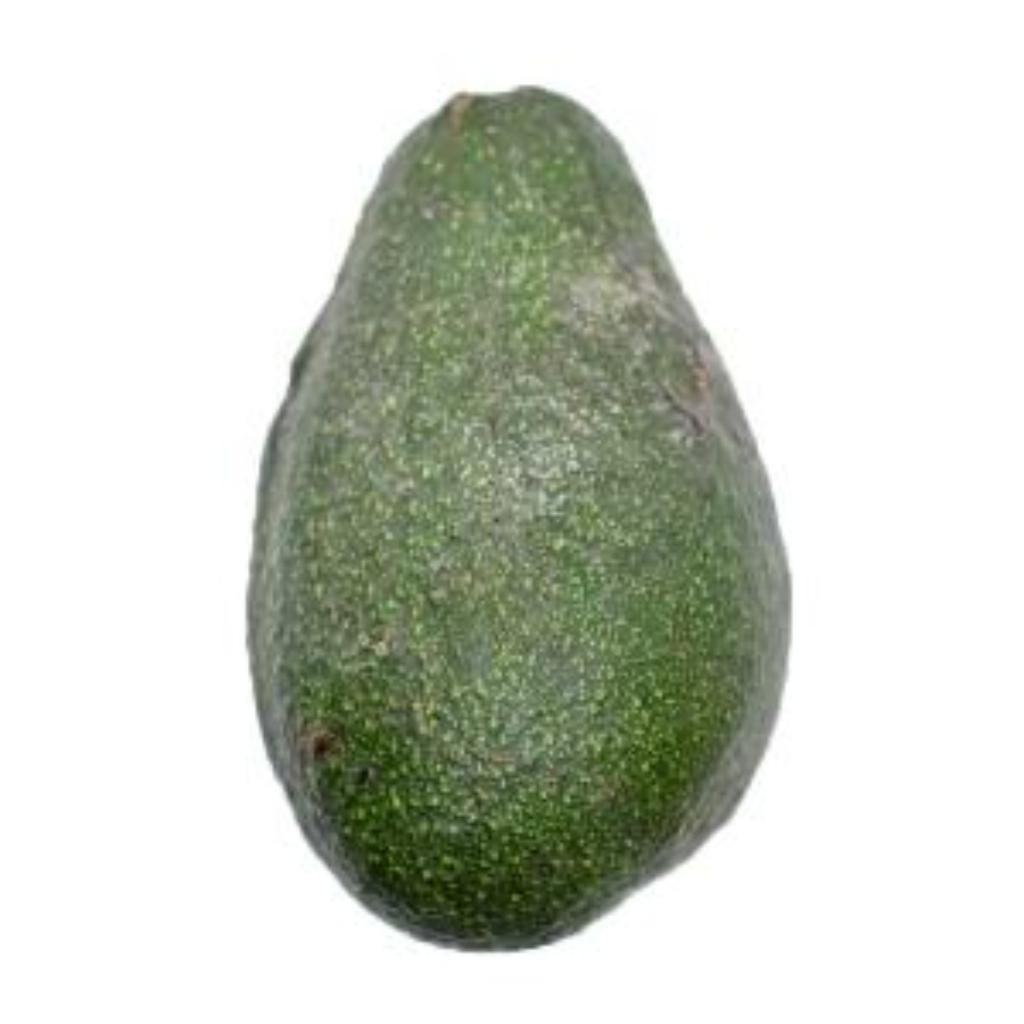cercospora_spot: (234, 76, 796, 958)
